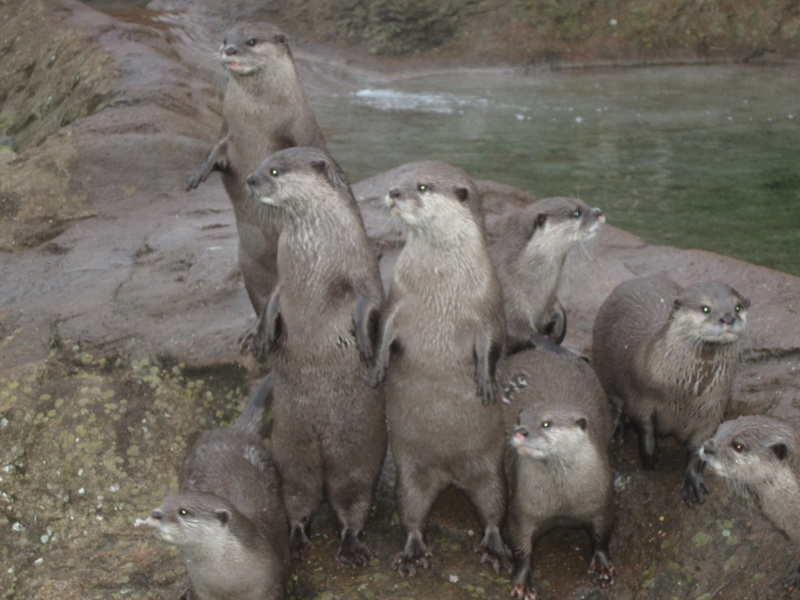minkish: (226, 144, 384, 566), (182, 20, 355, 344), (380, 155, 504, 583), (597, 267, 749, 508), (480, 342, 624, 594), (149, 372, 290, 599), (476, 180, 607, 355), (693, 409, 800, 541)
